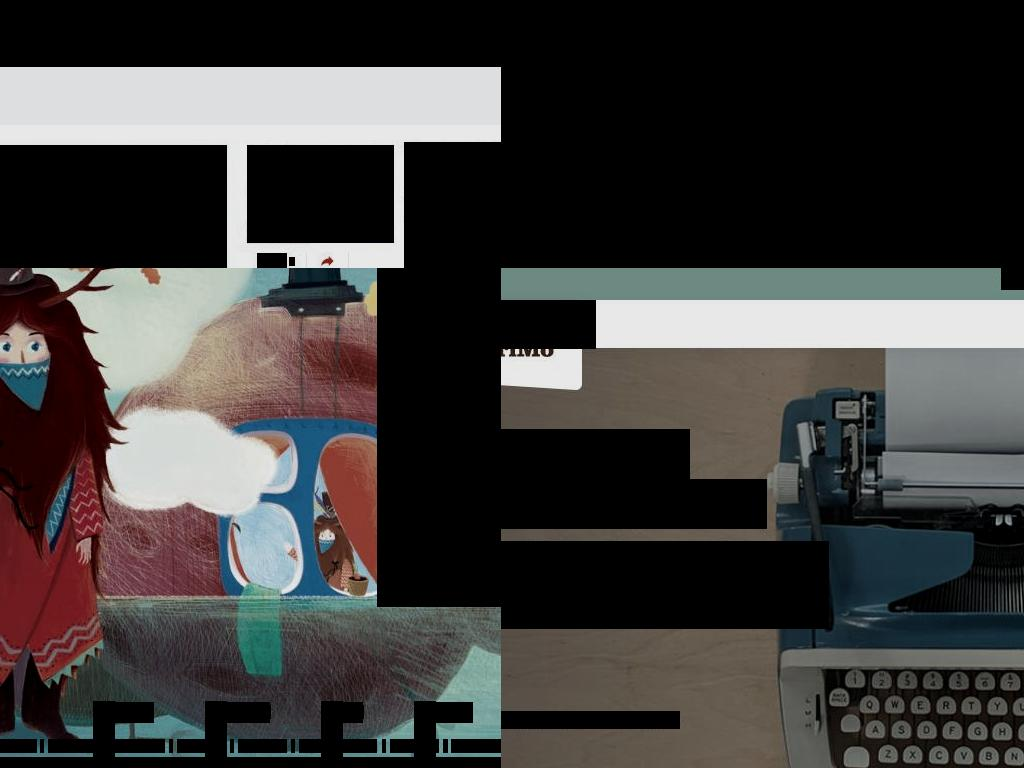button: (0, 145, 227, 268), (247, 145, 394, 243), (404, 142, 501, 227), (15, 20, 87, 66), (266, 20, 318, 66), (413, 20, 464, 66), (189, 20, 236, 66), (117, 20, 159, 66), (348, 20, 383, 66), (205, 702, 270, 723), (93, 702, 154, 723), (414, 702, 473, 723), (321, 702, 363, 723), (333, 0, 432, 6), (1001, 268, 1024, 290), (257, 253, 287, 268)
heading: (501, 0, 1024, 94), (377, 268, 501, 607), (501, 479, 767, 529), (404, 145, 501, 268), (501, 429, 690, 479)
iframe: (501, 0, 1024, 268), (377, 268, 501, 577)
image: (0, 145, 227, 268), (247, 145, 394, 243), (501, 300, 596, 349), (93, 701, 115, 768), (205, 701, 227, 768), (321, 701, 343, 768), (414, 701, 436, 768), (321, 256, 334, 266), (289, 257, 295, 266)
link: (404, 159, 501, 226), (548, 711, 680, 729), (299, 739, 377, 753), (105, 739, 165, 753), (451, 739, 501, 753), (177, 739, 226, 753), (238, 739, 287, 753), (390, 739, 439, 753), (48, 739, 93, 753), (0, 739, 37, 753)
text: (0, 0, 501, 67), (501, 541, 829, 629), (0, 757, 501, 768), (247, 222, 310, 243), (228, 705, 271, 719), (116, 705, 154, 719), (333, 0, 418, 6), (437, 705, 473, 719), (257, 255, 287, 268), (452, 0, 501, 6), (344, 705, 364, 719), (443, 739, 448, 753), (40, 739, 44, 753), (97, 739, 101, 753), (169, 739, 173, 753), (230, 739, 234, 753), (291, 739, 295, 753), (382, 739, 386, 753)
